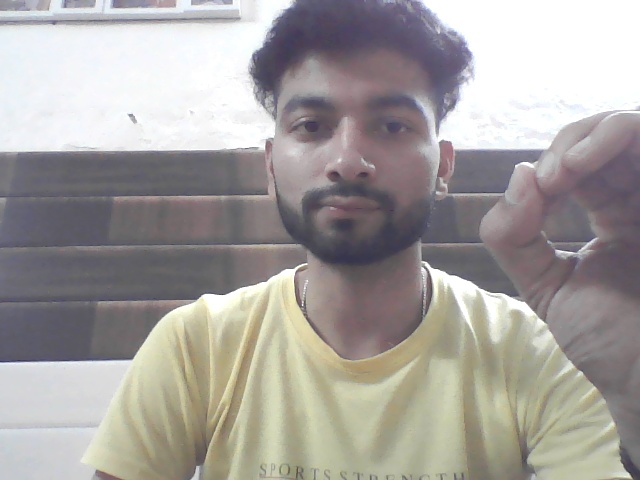No: (473, 80, 640, 472)
